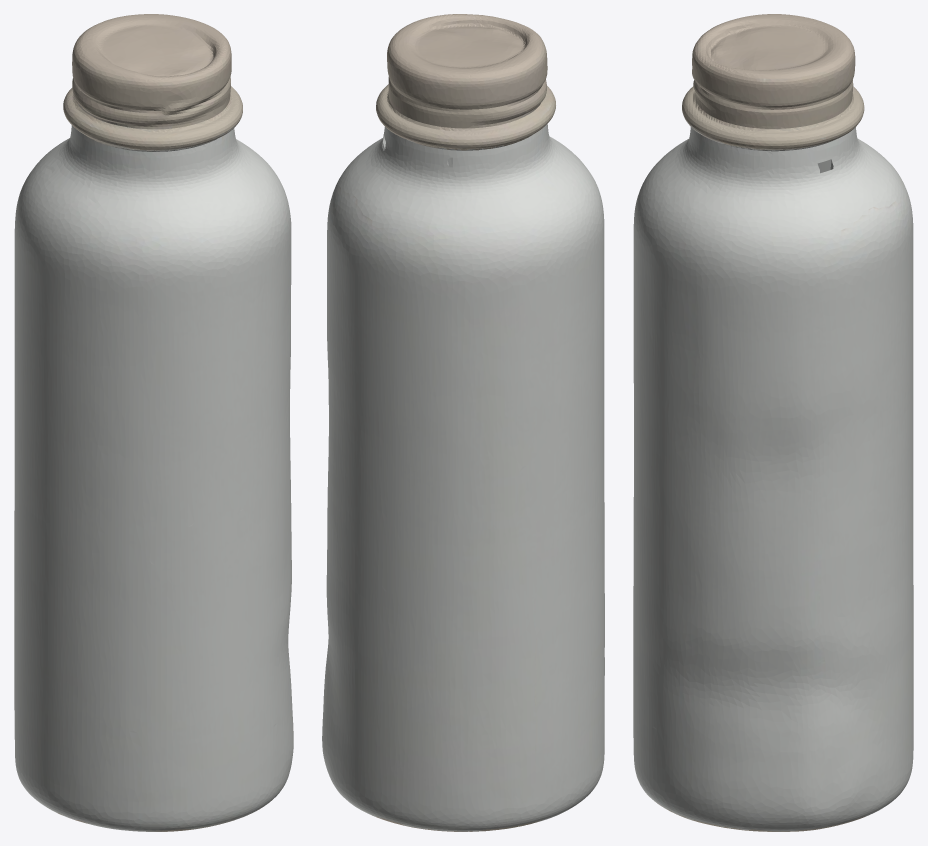
File: garak_thermos.glb
3 renders of one model, left to right at view 1: azimuth 30°, elevation 25°; view 2: azimuth 150°, elevation 25°; view 3: azimuth 270°, elevation 25°, orthographic.
Parts seen in each view (by area): view 1: thermos.obj; view 2: thermos.obj; view 3: thermos.obj.
Part boxes in pixels (x1,y1,x2,y2): thermos.obj: (14,14,293,831); thermos.obj: (322,14,604,831); thermos.obj: (633,14,913,831).
Size of the model in its own units: 0.68 by 1.97 by 0.6804.
1 material, 1 textured.
